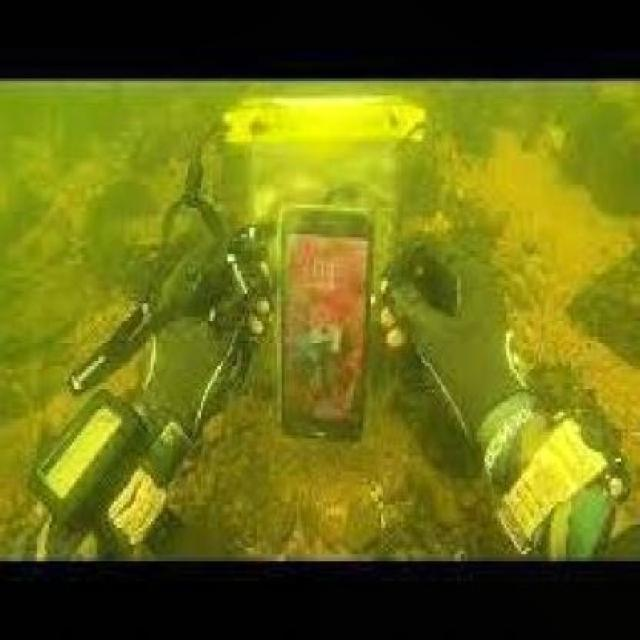cellphone: (275, 201, 373, 445)
